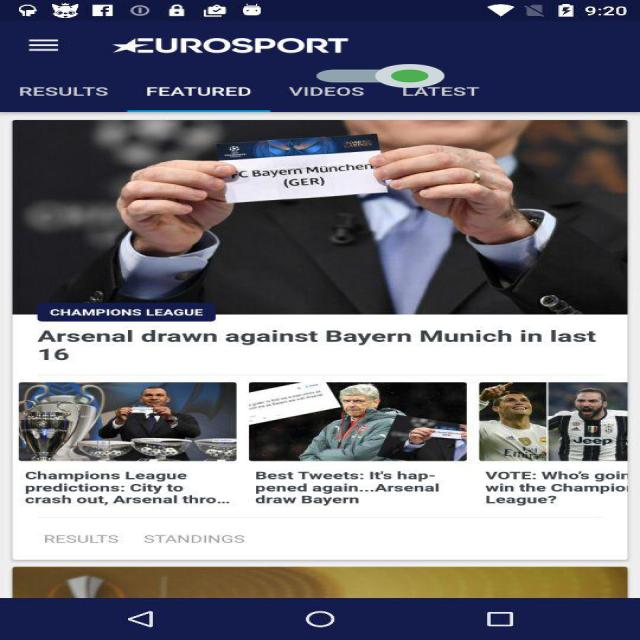social proof: (316, 54, 444, 98)
